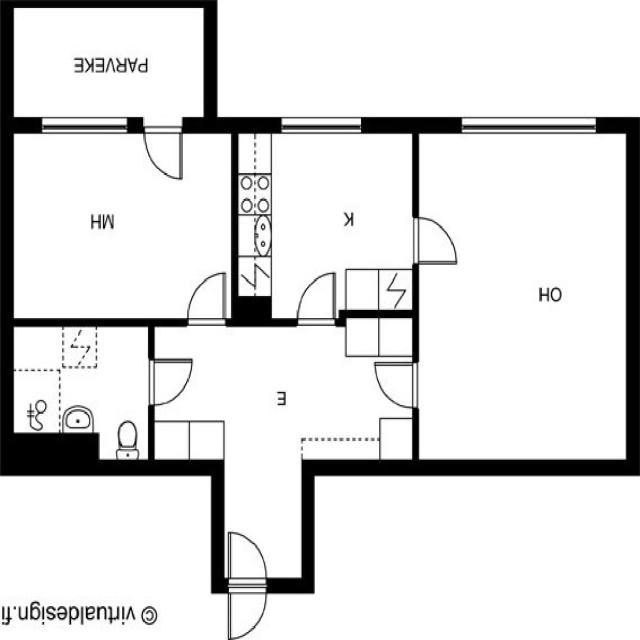door: (222, 525, 272, 640), (406, 203, 466, 271), (178, 262, 230, 328), (290, 264, 341, 329), (141, 117, 187, 184), (145, 353, 196, 409), (372, 354, 422, 410)
window: (453, 106, 602, 140), (35, 110, 135, 142), (276, 109, 368, 138)
zone: (418, 125, 635, 469), (6, 127, 237, 321), (144, 323, 422, 467), (235, 127, 421, 316), (11, 5, 207, 125), (8, 321, 154, 461)
